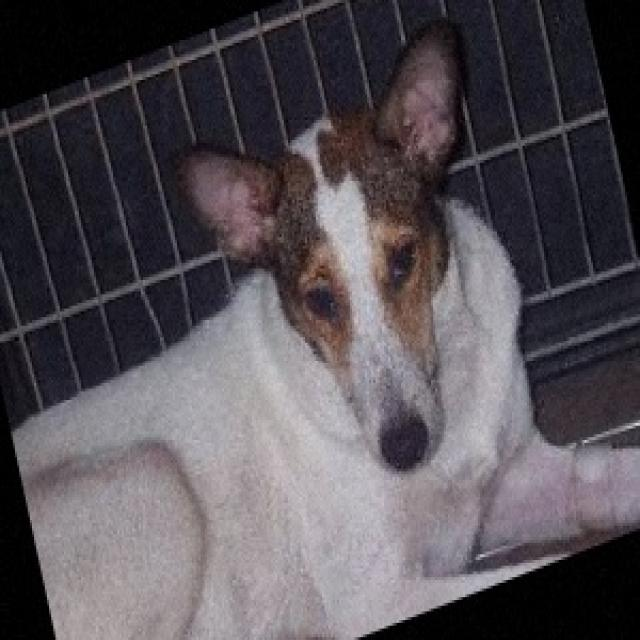sad: (158, 31, 640, 532)
